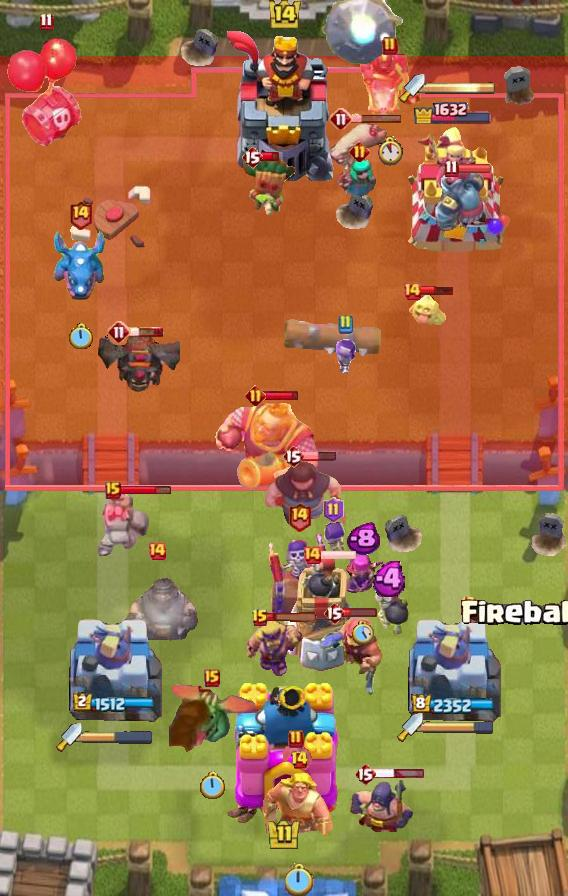archer-evolution: (94, 328, 180, 394)
arrows: (243, 618, 305, 680)
bar: (394, 126, 512, 256), (66, 611, 162, 731), (405, 611, 501, 731)
barbarian-barrel: (280, 743, 312, 773)
bat-evolution: (407, 290, 447, 328)
electro-spirit: (372, 561, 410, 597), (346, 522, 380, 556)
electro-wizard: (169, 680, 255, 754)
elixir: (286, 864, 314, 896), (376, 136, 404, 166), (199, 771, 225, 801), (67, 323, 92, 351), (352, 621, 374, 645)
elixir-golem-small: (434, 171, 490, 231)
emote: (119, 484, 172, 496), (351, 112, 403, 123), (267, 612, 319, 623), (373, 768, 425, 779), (319, 549, 356, 561), (456, 162, 492, 174), (128, 326, 164, 338), (301, 450, 337, 462), (264, 390, 301, 401), (419, 285, 455, 296), (342, 607, 378, 618), (260, 150, 280, 161)
evolution-symbol: (342, 542, 386, 598)
fireball: (317, 618, 385, 698)
freeze: (358, 50, 422, 118)
giant: (324, 120, 390, 174)
giant-skeleton: (210, 400, 322, 502)
goblin: (318, 520, 348, 560), (331, 338, 361, 374)
goblin-barrel: (239, 154, 297, 220)
goblin-hut: (261, 770, 337, 852)
graveyard: (51, 226, 109, 302)
ice-golem: (373, 583, 409, 637)
king-tower: (223, 31, 345, 181), (222, 680, 346, 826)
king-tower-bar: (423, 720, 495, 734), (82, 730, 154, 744), (425, 81, 495, 95)
minion: (280, 316, 382, 356)
monk: (349, 778, 415, 836)
royal-guardian: (113, 566, 201, 648)
royal-hog: (263, 461, 347, 529)
royal-recruit-evolution: (6, 36, 86, 150)
selected: (413, 99, 493, 125), (411, 694, 495, 716), (72, 691, 155, 713)
skeleton-king-bar: (268, 531, 330, 623)
text: (67, 198, 92, 229), (288, 501, 312, 532), (329, 107, 353, 131), (107, 320, 131, 344), (323, 497, 344, 523), (241, 145, 263, 169), (282, 444, 304, 468), (323, 601, 345, 625), (354, 762, 376, 786), (350, 141, 371, 163), (245, 385, 266, 406), (402, 281, 422, 301), (147, 541, 167, 561), (302, 545, 322, 565), (290, 750, 310, 770), (251, 608, 269, 628), (382, 36, 398, 56), (337, 314, 353, 334), (288, 729, 304, 749), (105, 481, 121, 499), (204, 669, 220, 687), (445, 159, 460, 177), (39, 13, 53, 32)
valkyrie-evolution: (94, 494, 152, 558)
witch: (336, 159, 382, 201)
x-bow: (320, 0, 404, 66)
zappy: (280, 553, 366, 673)
